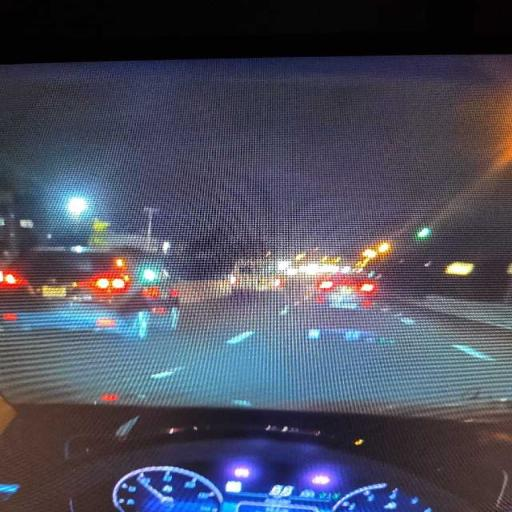car: (0, 250, 179, 339), (163, 259, 231, 308), (316, 272, 379, 309), (231, 260, 285, 293)
lane: (0, 294, 510, 410)
